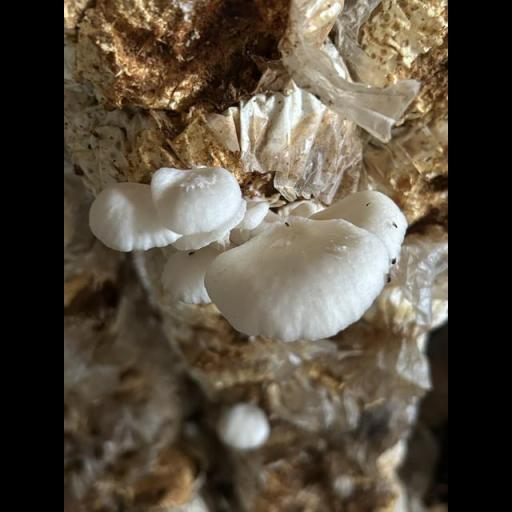White Oyster Mushroom: (160, 191, 407, 339), (92, 167, 251, 253), (219, 402, 271, 450)
